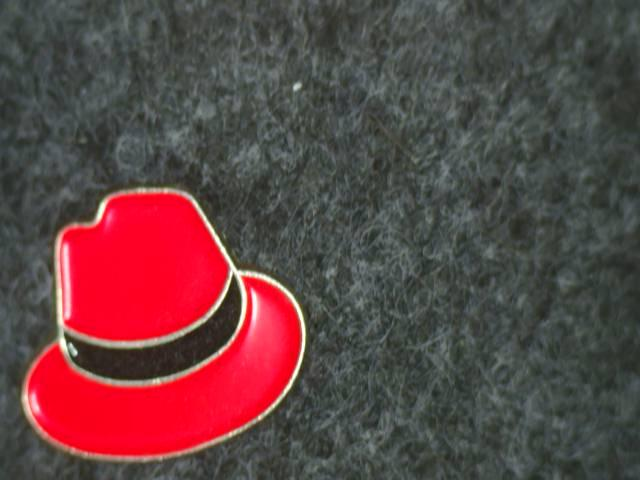Red-Hat: (8, 175, 344, 480)
